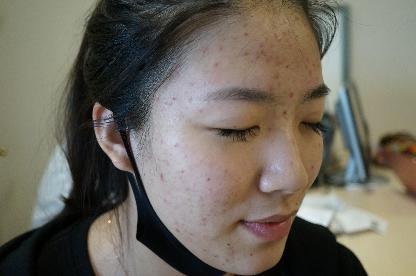Nodules: (155, 168, 171, 184), (285, 86, 298, 101), (210, 58, 222, 71)
acne scar: (268, 65, 283, 84)
